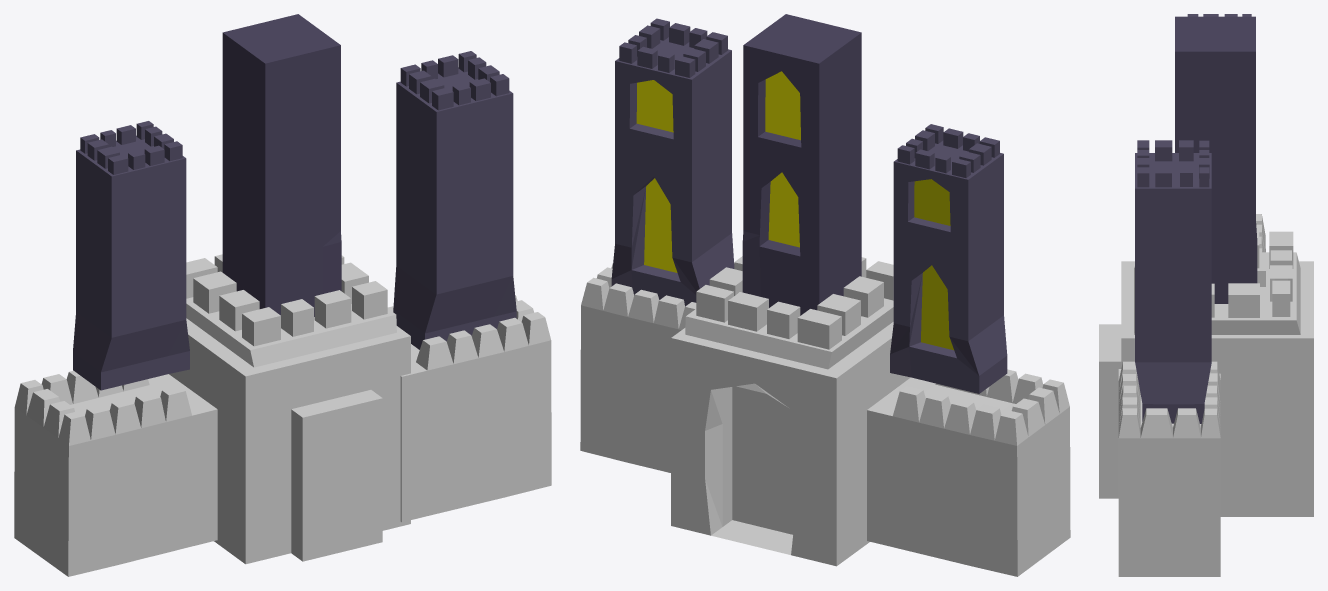
File: Castle.fbx
The picture shows the model from 3 angles, left to right: view 1: azimuth 30°, elevation 25°; view 2: azimuth 150°, elevation 25°; view 3: azimuth 270°, elevation 25°; orthographic projection. The views are drawn at different scales.
Visible parts, largest first — view 1: pCube18; view 2: pCube18; view 3: pCube18.
Part boxes in pixels (left/top/right/bottom): pCube18: left=14, top=14, right=551, bottom=576; pCube18: left=580, top=14, right=1070, bottom=576; pCube18: left=1099, top=14, right=1313, bottom=576.
Size of the model in its own units: 70.59 by 29.95 by 68.62.
